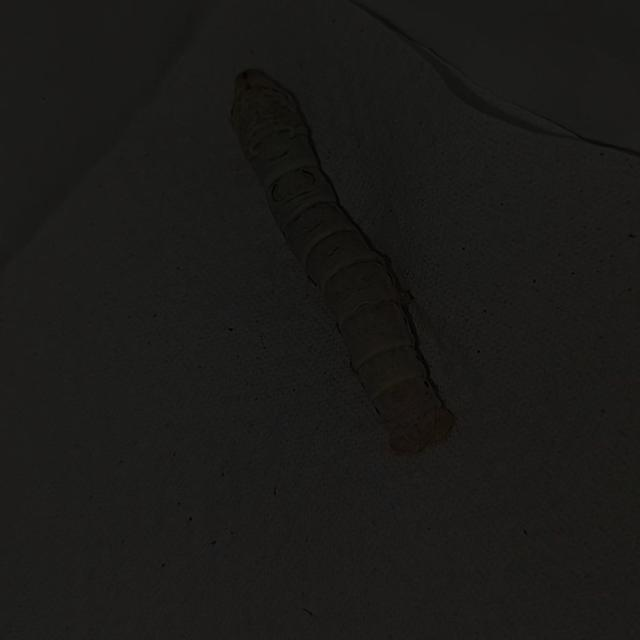Healthy: (197, 41, 475, 492)
